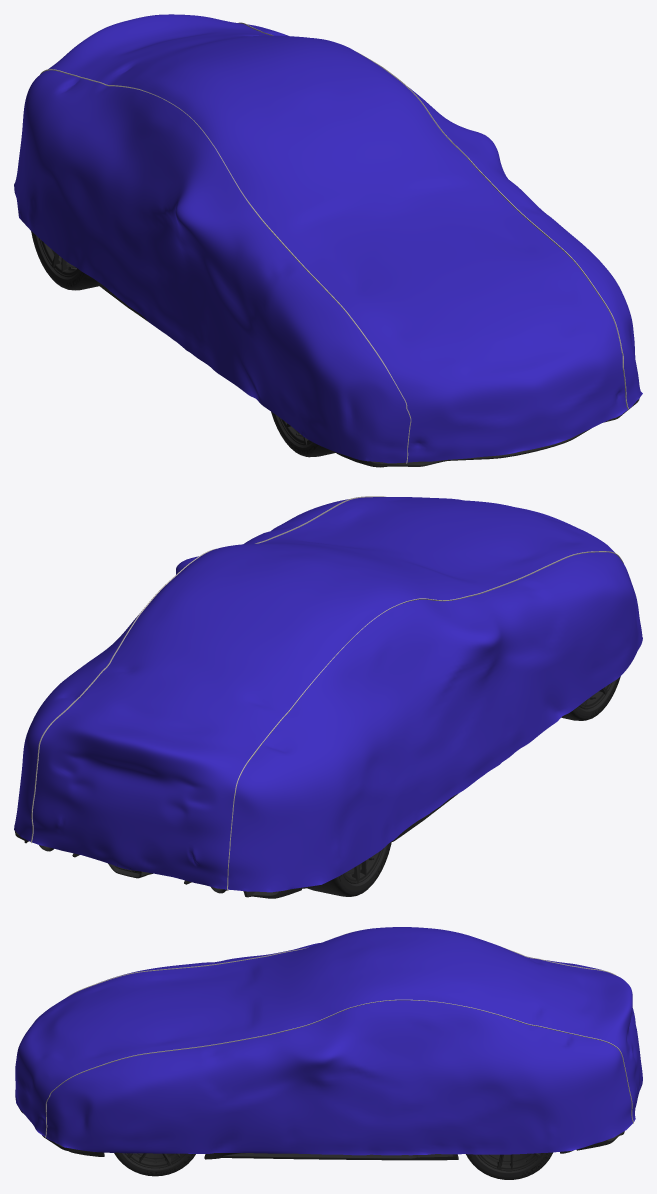
File: sedan.glb
3 views of the same model, one above another, from view 1: azimuth 30°, elevation 25°; view 2: azimuth 150°, elevation 25°; view 3: azimuth 270°, elevation 25° (orthographic). The views are drawn at different scales.
Parts seen in each view (by area): view 1: CAPA, Paint_Paint_0, LINHA; view 2: CAPA, Paint_Paint_0, LINHA; view 3: CAPA, Paint_Paint_0, LINHA.
Part boxes in pixels (x1,y1,x2,y2): CAPA: (14,14,642,463); Paint_Paint_0: (31,231,639,467); LINHA: (40,22,628,463); CAPA: (14,497,642,892); Paint_Paint_0: (15,676,620,898); LINHA: (30,496,623,890); CAPA: (15,927,642,1155); Paint_Paint_0: (20,1109,624,1179); LINHA: (45,931,633,1137).
Size of the model in its own units: 1.91 by 1.35 by 4.38.
Materials: 5 (2 with a texture image).
